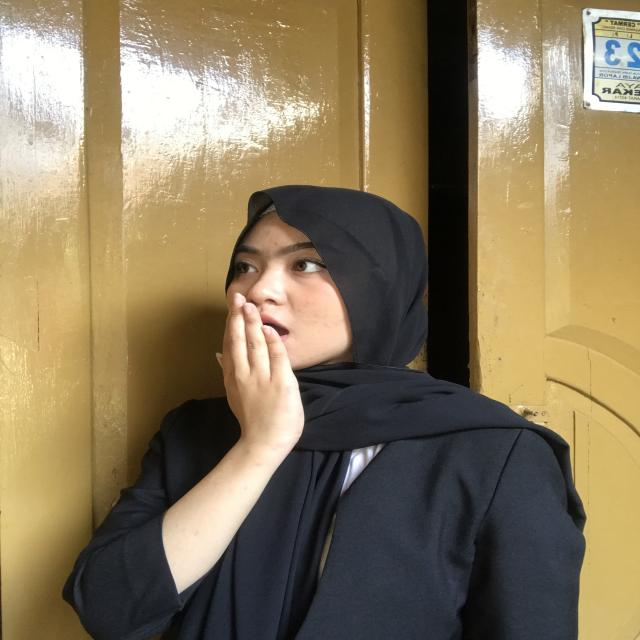ngantuk: (185, 284, 323, 475)
